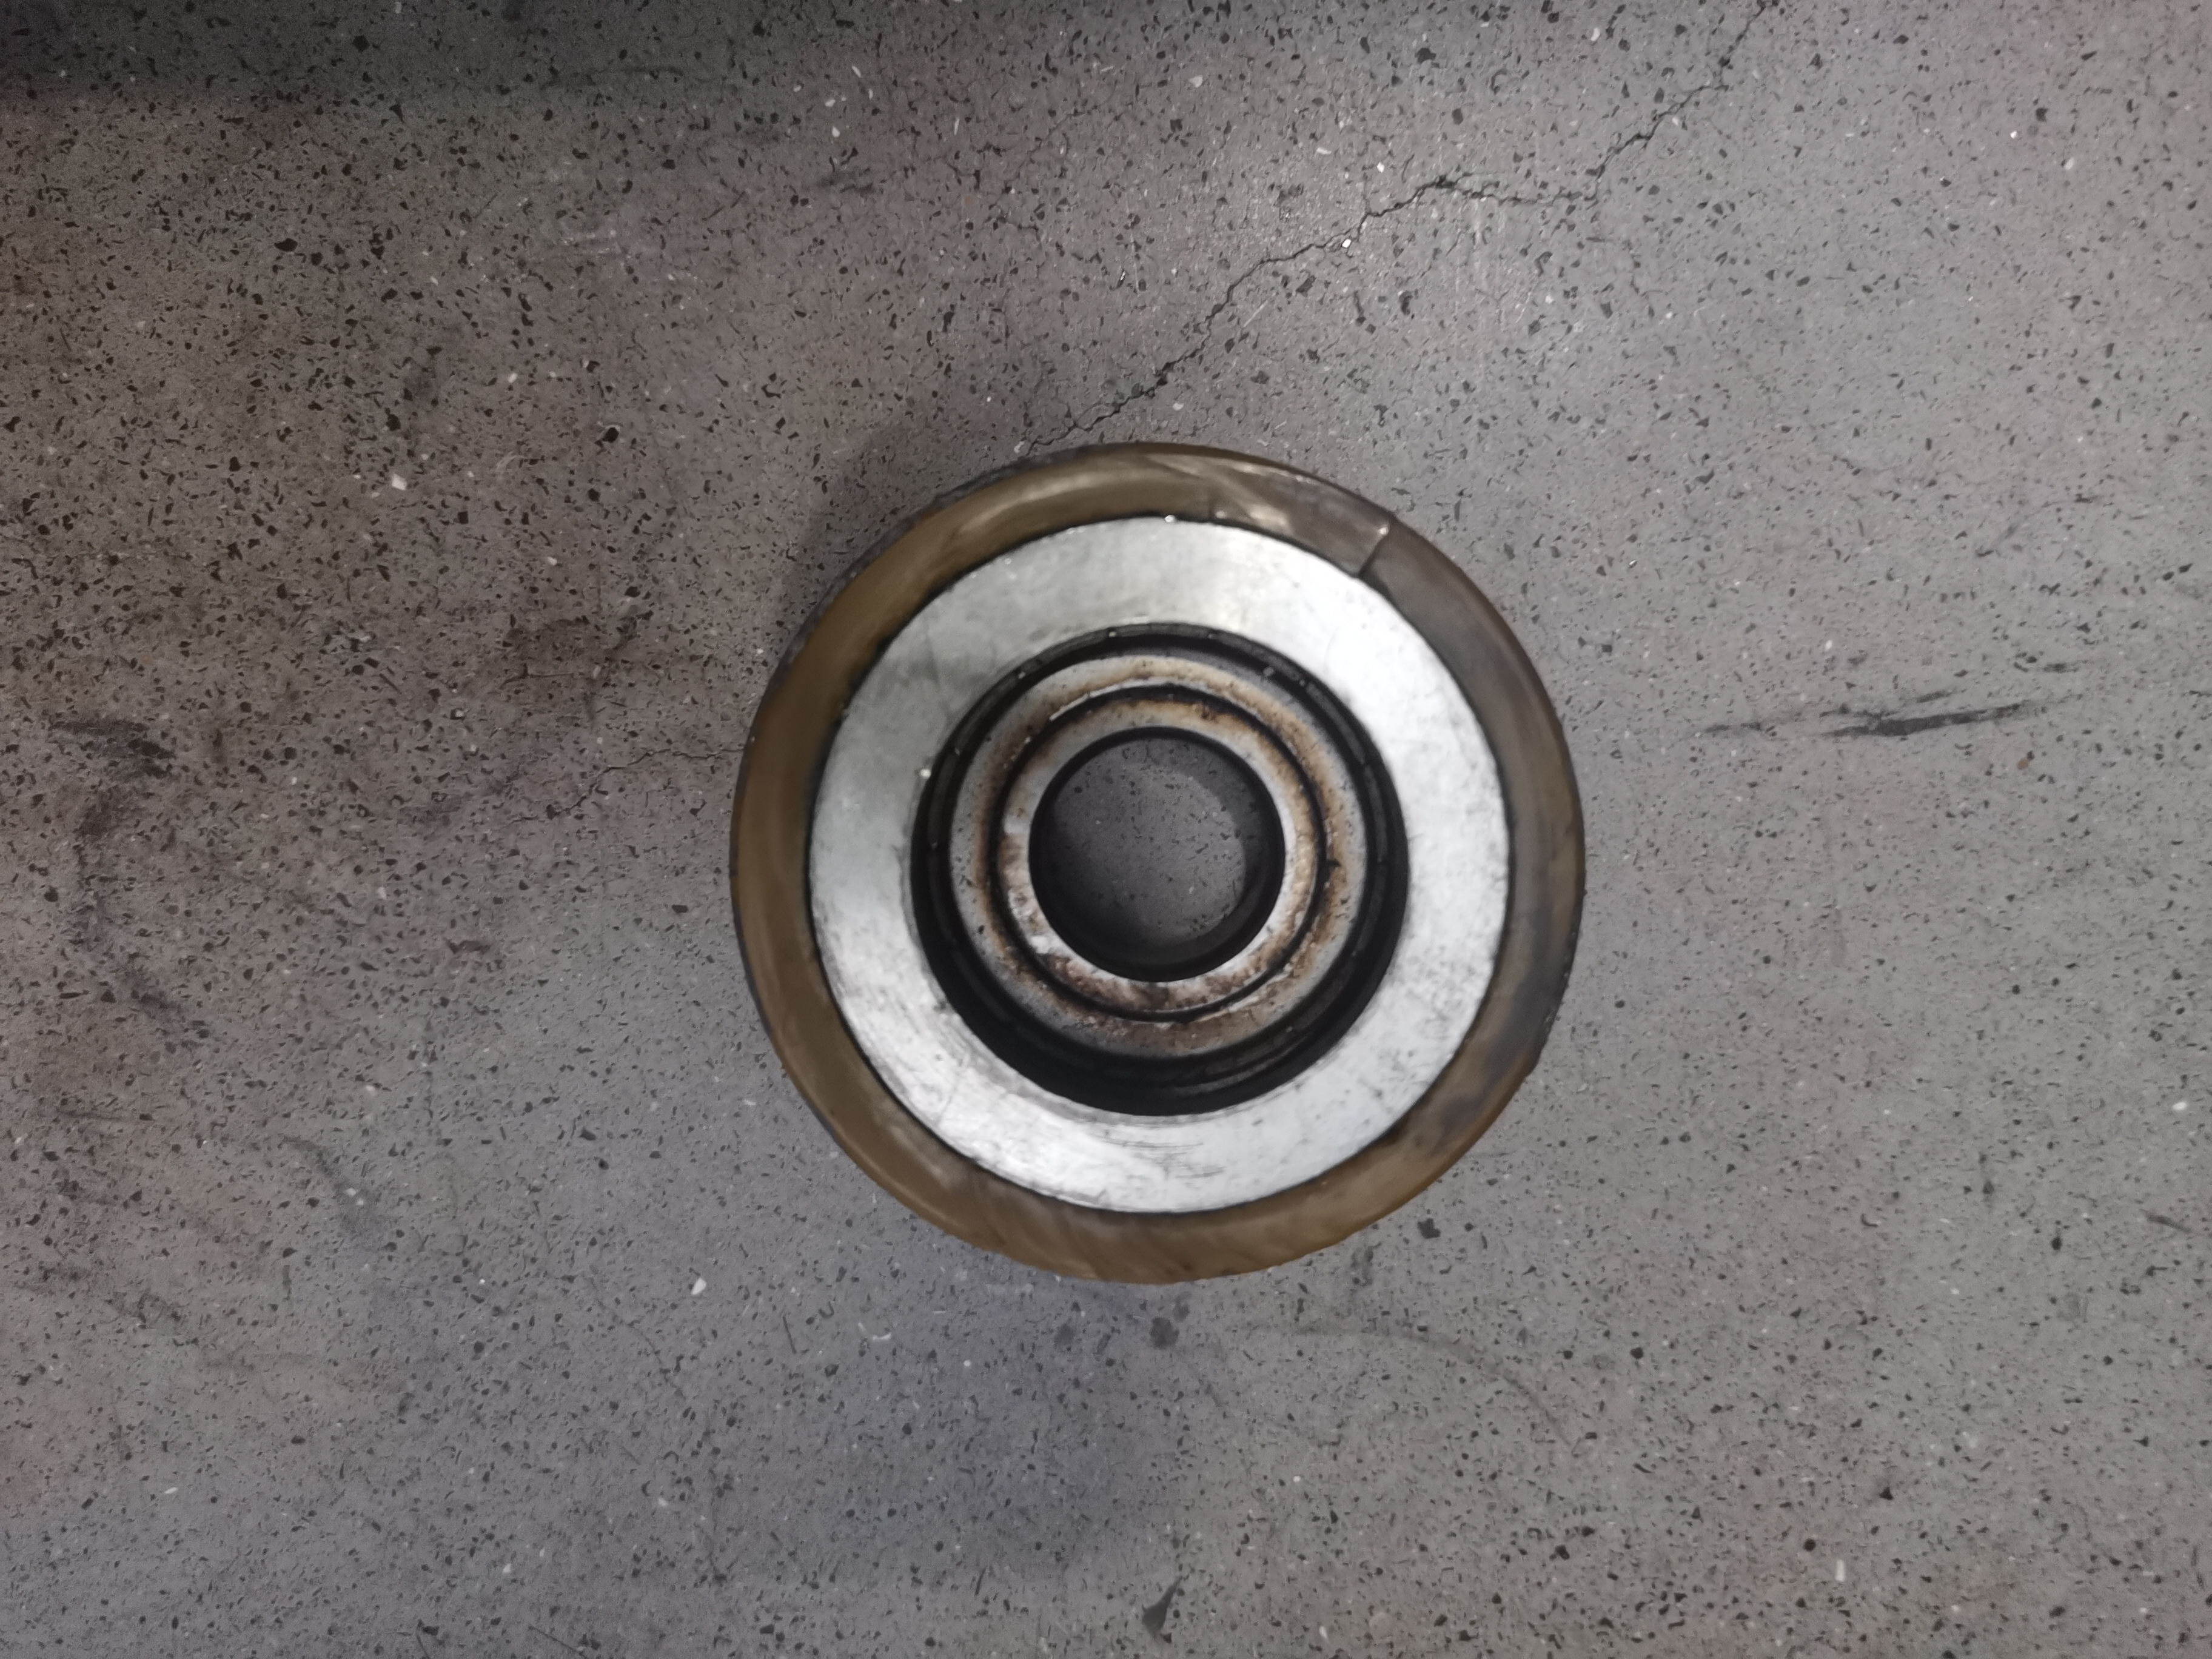bad_wheel: (907, 648, 1421, 1126), (1289, 420, 1421, 681)
